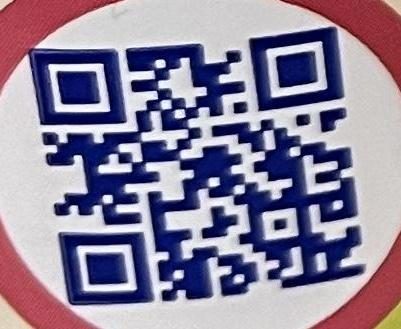qrcode: (28, 28, 368, 307)
